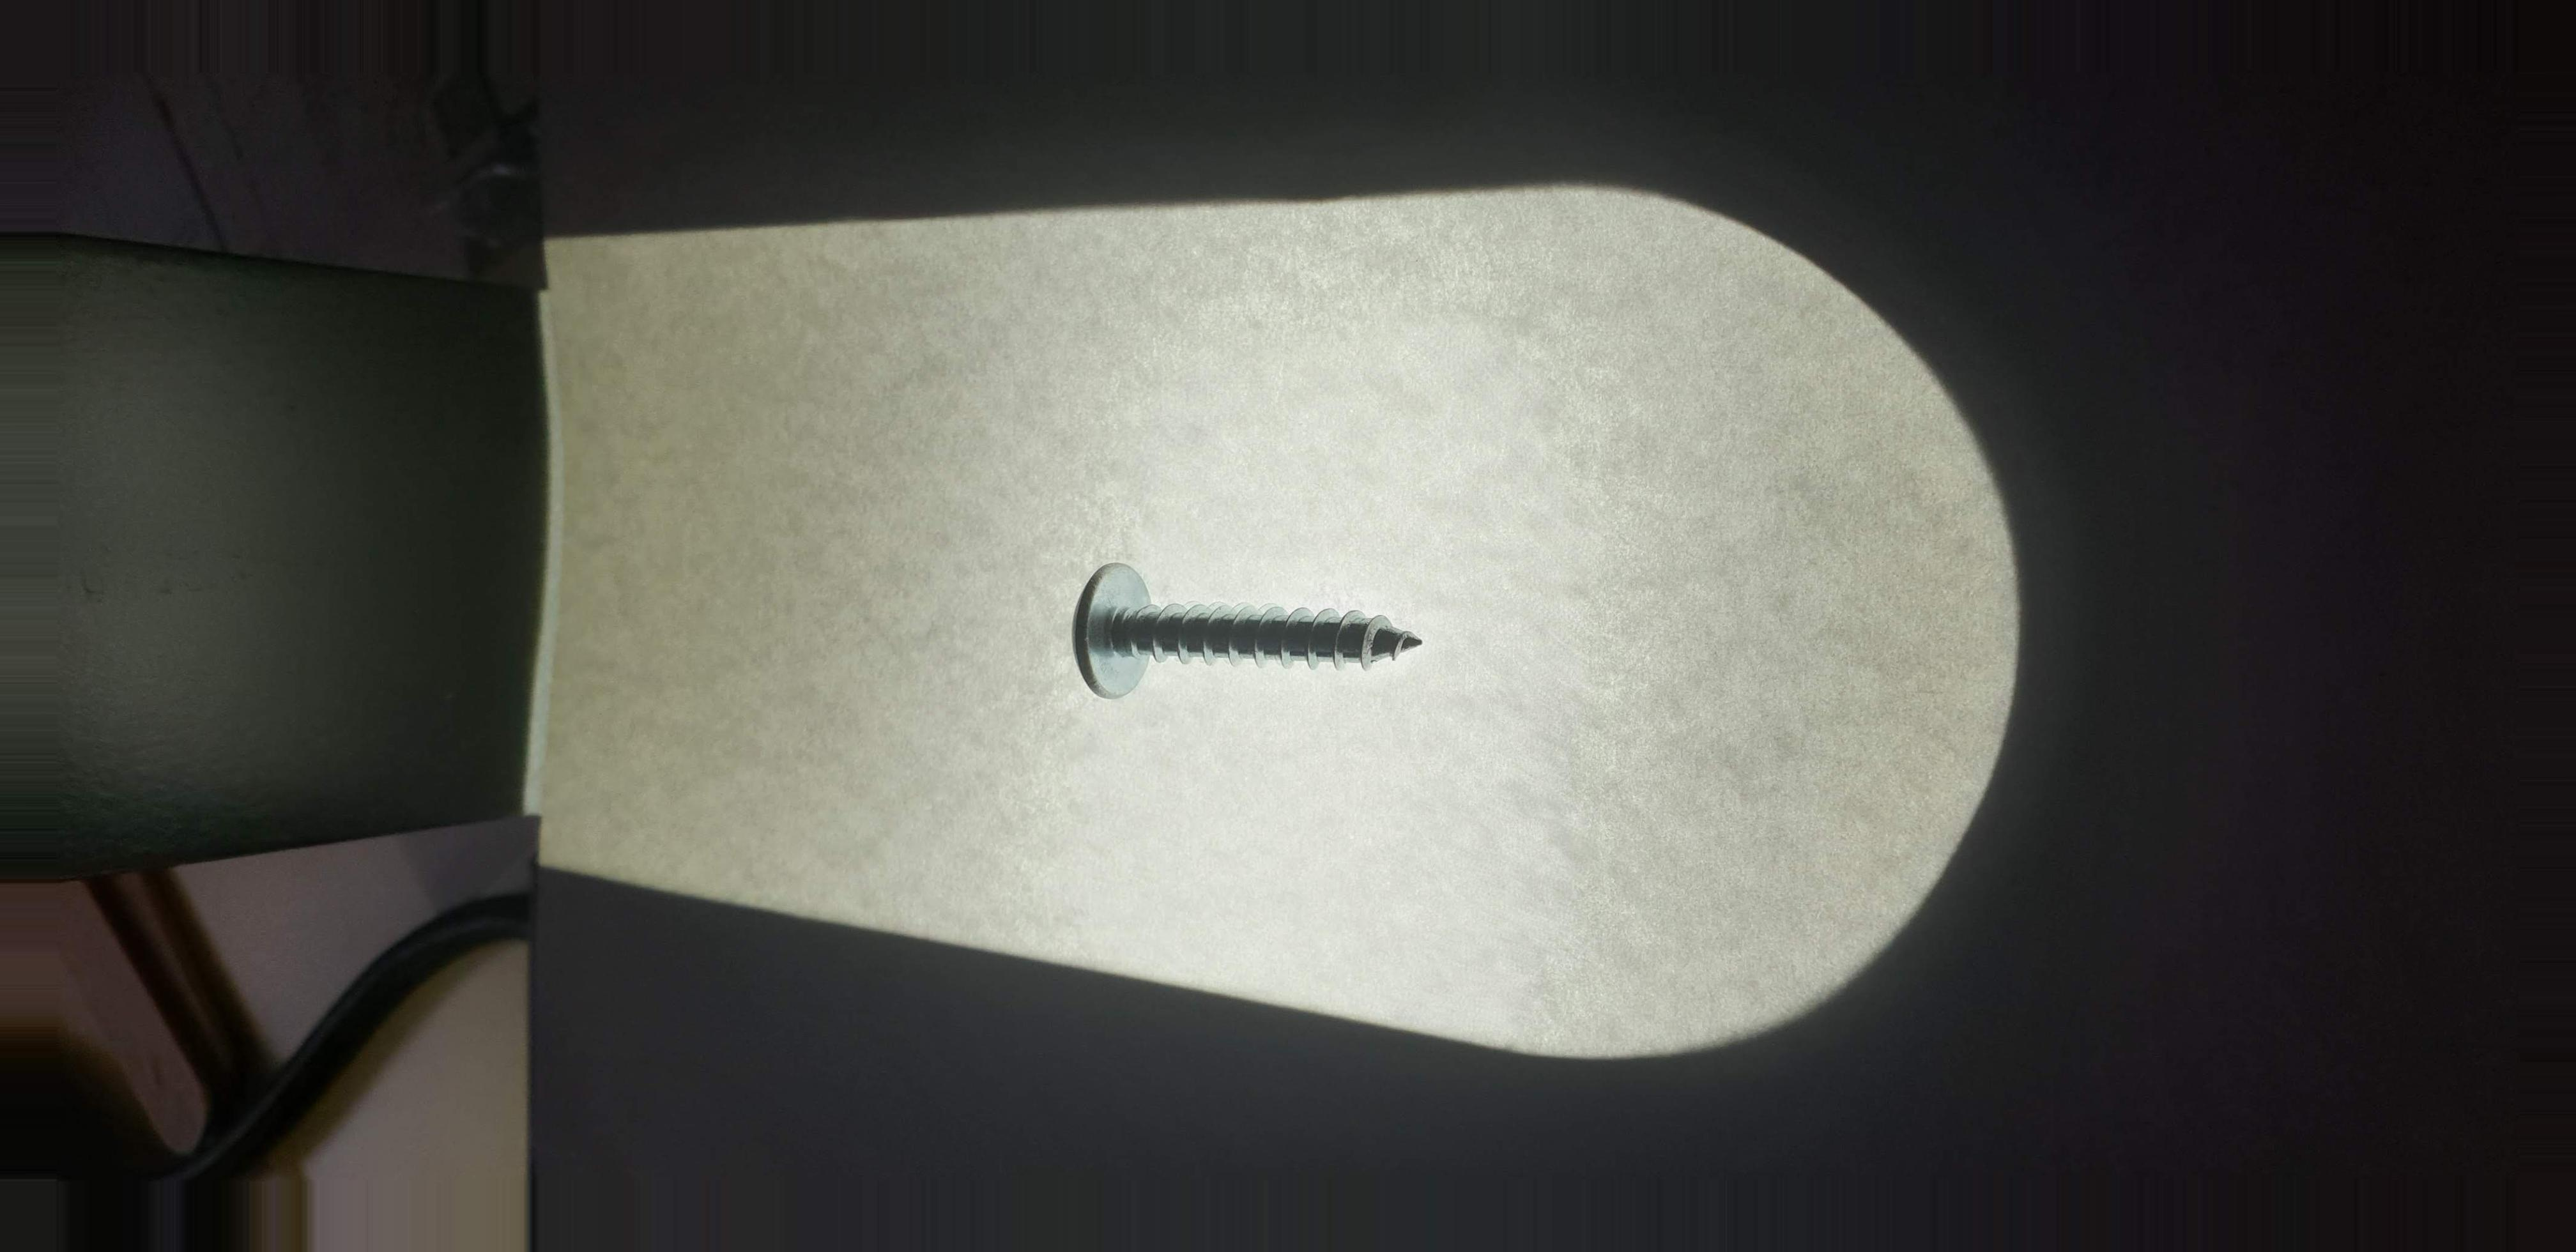S002: (1015, 545, 1459, 716)
